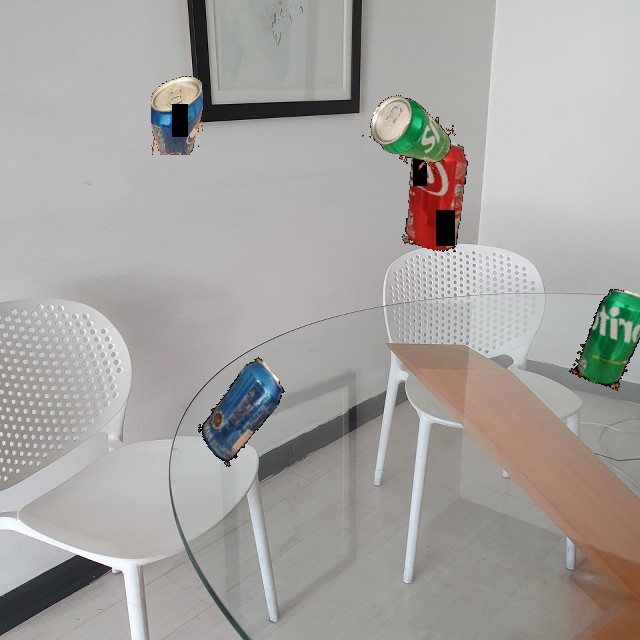coca cola: (402, 137, 469, 252)
pepsi: (183, 354, 299, 468), (151, 69, 203, 155)
sprite: (552, 273, 640, 402), (361, 86, 463, 179)
